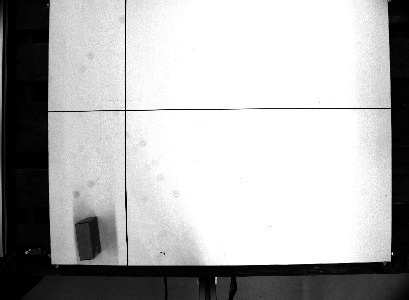b1: (73, 215, 104, 262)
